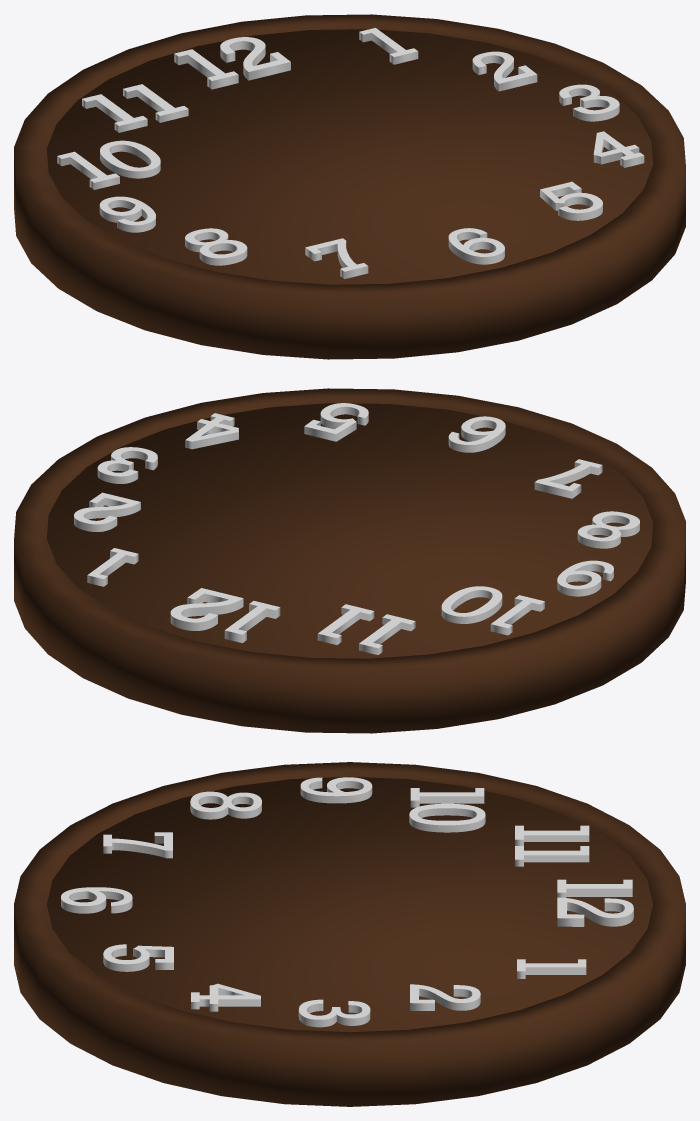
File: clock(updated).fbx
The picture shows the model from 3 angles, top to bottom: view 1: azimuth 30°, elevation 25°; view 2: azimuth 150°, elevation 25°; view 3: azimuth 270°, elevation 25°; orthographic projection.
Visible parts, largest first — view 1: Cylinder, Text.011, Text.009, Text.010, Text.007, Text.004, Text.005, Text.008, Text.002, Text.001, Text.003, Text.006 (+1 smaller); view 2: Cylinder, Text.011, Text.009, Text.010, Text.001, Text.007, Text.004, Text.005, Text.008, Text.002, Text.006, Text.003 (+1 smaller); view 3: Cylinder, Text.011, Text.009, Text.010, Text.007, Text.005, Text.008, Text.001, Text.004, Text.002, Text.003, Text.006 (+1 smaller).
Boxes of the visible parts, <box> form: Cylinder: <box>14,14,685,359</box>; Text.011: <box>174,37,290,89</box>; Text.009: <box>57,140,160,189</box>; Text.010: <box>82,84,188,132</box>; Text.007: <box>185,228,247,265</box>; Text.004: <box>540,181,602,220</box>; Text.005: <box>448,228,504,264</box>; Text.008: <box>99,196,155,232</box>; Text.002: <box>559,84,619,121</box>; Text.001: <box>472,51,537,91</box>; Text.003: <box>593,131,644,167</box>; Text.006: <box>305,238,368,278</box>; Cylinder: <box>14,388,685,733</box>; Text.011: <box>170,588,280,643</box>; Text.009: <box>441,586,544,635</box>; Text.010: <box>317,604,415,654</box>; Text.001: <box>74,492,140,531</box>; Text.007: <box>577,511,639,548</box>; Text.004: <box>304,403,368,441</box>; Text.005: <box>448,416,505,452</box>; Text.008: <box>557,560,613,596</box>; Text.002: <box>97,447,157,483</box>; Text.006: <box>534,459,602,498</box>; Text.003: <box>185,413,238,449</box>; Cylinder: <box>14,762,685,1106</box>; Text.011: <box>557,879,633,926</box>; Text.009: <box>409,788,485,832</box>; Text.010: <box>515,825,589,866</box>; Text.007: <box>190,791,261,819</box>; Text.005: <box>61,887,132,913</box>; Text.008: <box>300,777,372,803</box>; Text.001: <box>410,984,480,1010</box>; Text.004: <box>103,944,173,971</box>; Text.002: <box>298,999,370,1027</box>; Text.003: <box>191,983,260,1011</box>; Text.006: <box>103,832,172,858</box>.
Size of the model in its own units: 95.53 by 10.75 by 95.53.
